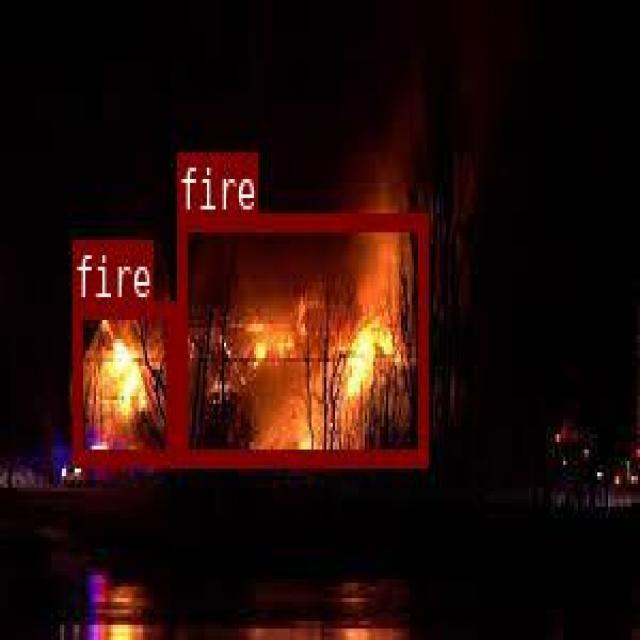fire: (177, 213, 424, 463), (72, 300, 173, 461)
